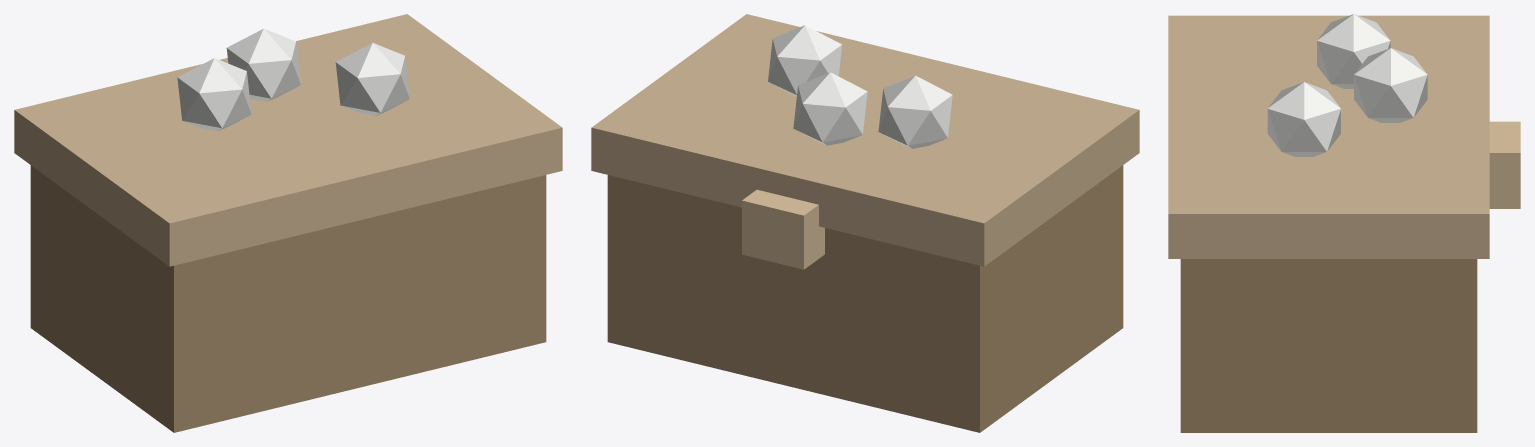
Rendered from 18-Casas_decor_cofre_perlas.glb.
The picture shows the model from 3 angles, left to right: view 1: azimuth 30°, elevation 25°; view 2: azimuth 150°, elevation 25°; view 3: azimuth 270°, elevation 25°; orthographic projection. The views are drawn at different scales.
Visible parts, largest first — view 1: SM_CofrePer_Cofre, SM_CofrePer_Perla, SM_CofrePer_Perla.001, SM_CofrePer_Perla.002; view 2: SM_CofrePer_Cofre, SM_CofrePer_Perla, SM_CofrePer_Perla.002, SM_CofrePer_Perla.001; view 3: SM_CofrePer_Cofre, SM_CofrePer_Perla.001, SM_CofrePer_Perla.002, SM_CofrePer_Perla.
Boxes of the visible parts, x1=… form: SM_CofrePer_Cofre: x1=14, y1=14, x2=562, y2=432; SM_CofrePer_Perla: x1=177, y1=58, x2=251, y2=131; SM_CofrePer_Perla.001: x1=335, y1=43, x2=409, y2=115; SM_CofrePer_Perla.002: x1=226, y1=28, x2=300, y2=101; SM_CofrePer_Cofre: x1=591, y1=14, x2=1139, y2=432; SM_CofrePer_Perla: x1=878, y1=75, x2=952, y2=148; SM_CofrePer_Perla.002: x1=793, y1=72, x2=867, y2=145; SM_CofrePer_Perla.001: x1=768, y1=25, x2=841, y2=96; SM_CofrePer_Cofre: x1=1168, y1=15, x2=1520, y2=432; SM_CofrePer_Perla.001: x1=1267, y1=82, x2=1340, y2=156; SM_CofrePer_Perla.002: x1=1354, y1=48, x2=1427, y2=122; SM_CofrePer_Perla: x1=1317, y1=14, x2=1390, y2=88.
Size of the model in its own units: 0.38 by 0.262 by 0.285.
